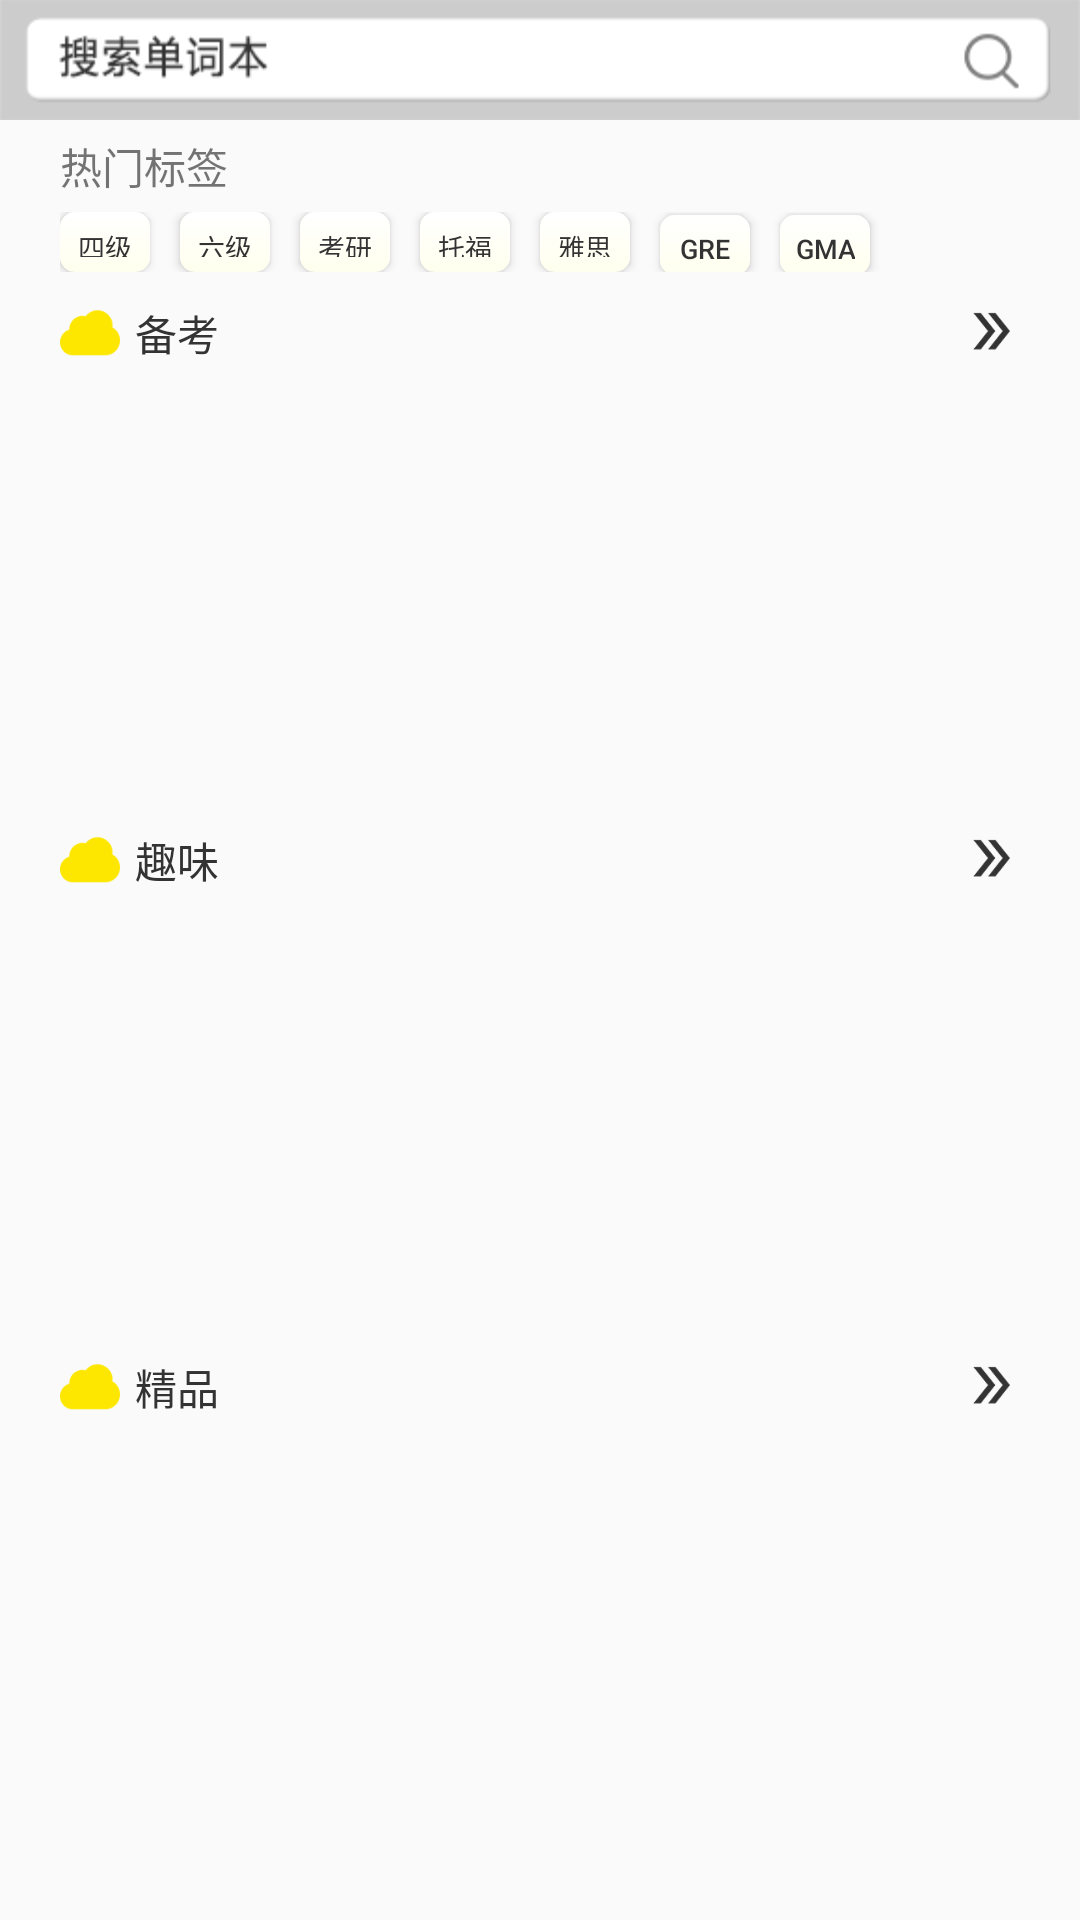

Where icons sit on this 1080 × 1920 app screen, as (x1, y1, x2, y2):
arrow right: (973, 313, 1010, 350), (973, 840, 1010, 877), (973, 1367, 1010, 1404)
cloud: (60, 310, 120, 356), (60, 837, 120, 883), (60, 1364, 120, 1410)
